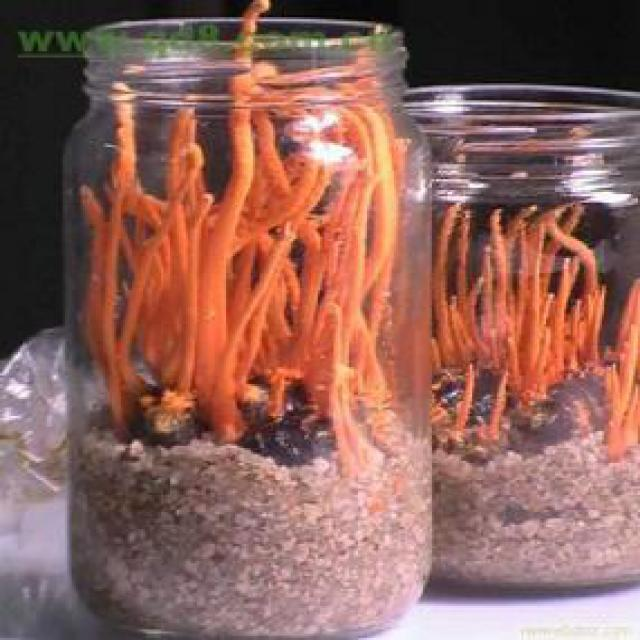Cordyceps militaris: (76, 0, 401, 471), (425, 125, 640, 454)
